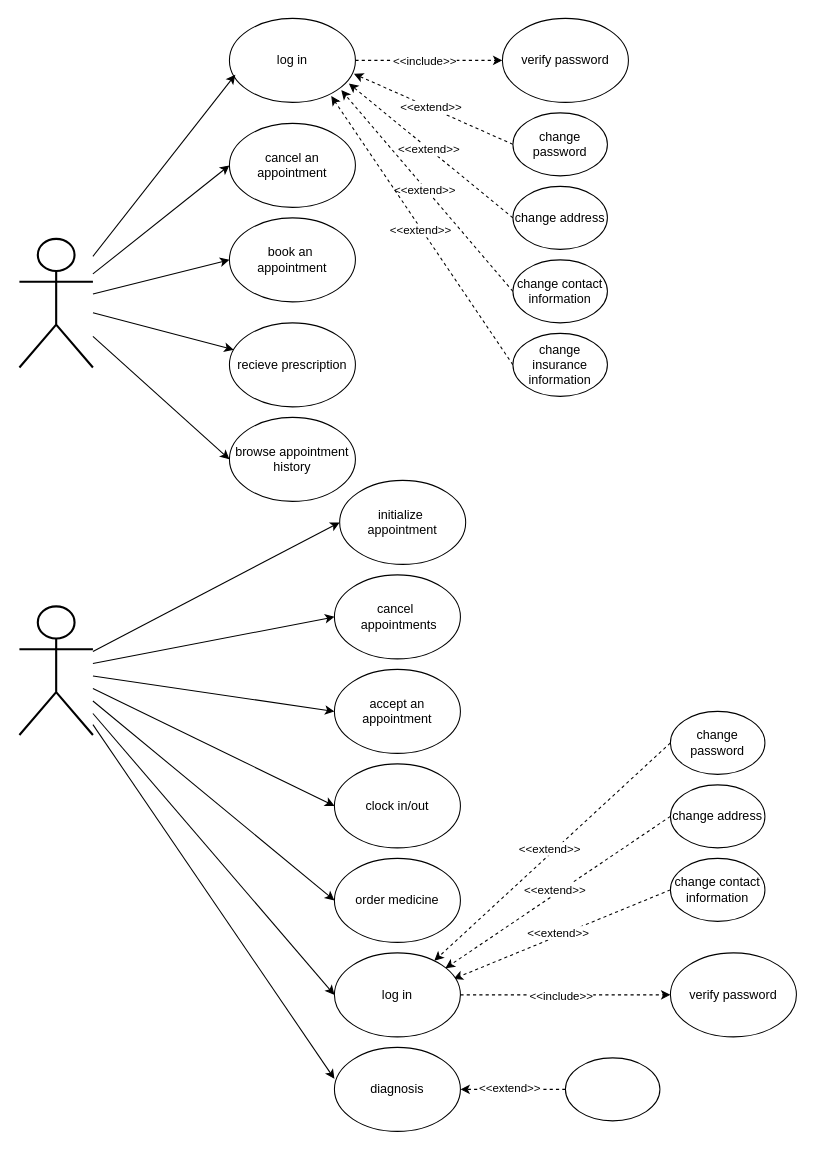
Some shapes in this 815 by 1150 pixel diagram are drawn without their labels. Each missing label, with the centre of its shape:
doctor: (55,670)
pacient: (55,302)
prescribe medicine: (612,1089)
